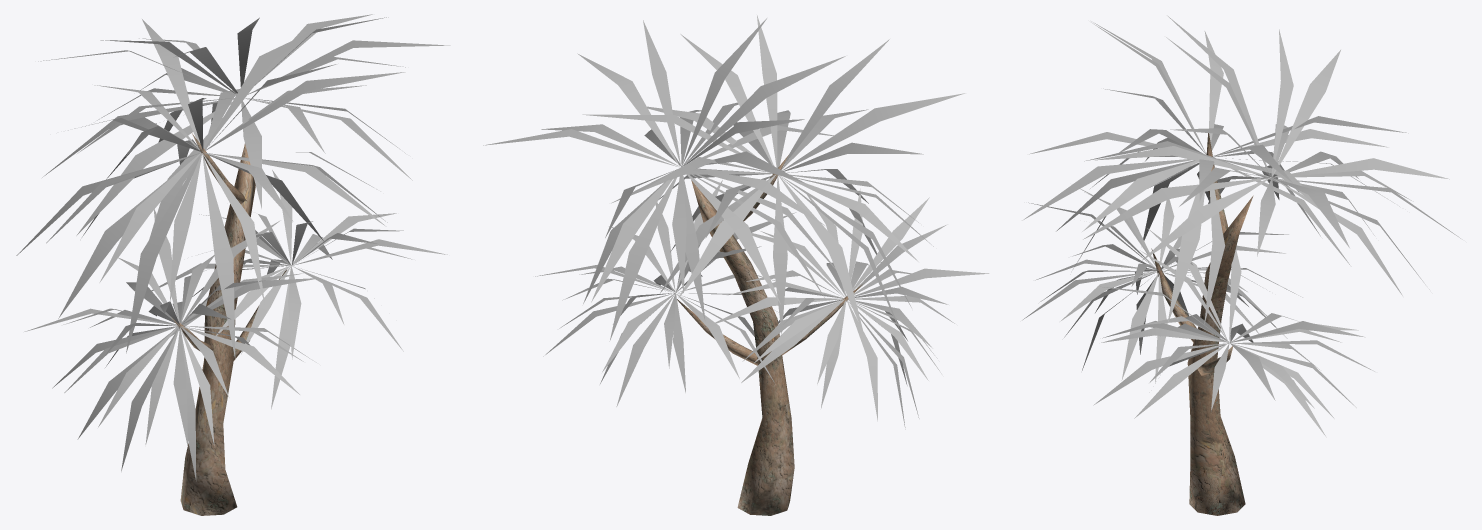
The model's file is dra_2s_LOD1.fbx.
3 views of the same model, side by side, from view 1: azimuth 30°, elevation 25°; view 2: azimuth 150°, elevation 25°; view 3: azimuth 270°, elevation 25° (orthographic). The views are drawn at different scales.
Parts seen in each view (by area): view 1: dra_LOD1; view 2: dra_LOD1; view 3: dra_LOD1.
Boxes of the visible parts, x1,y1,x2,y2 form: dra_LOD1: (16,14,450,515); dra_LOD1: (483,15,989,515); dra_LOD1: (1022,15,1462,515).
Size of the model in its own units: 2269 by 2584 by 2186.
